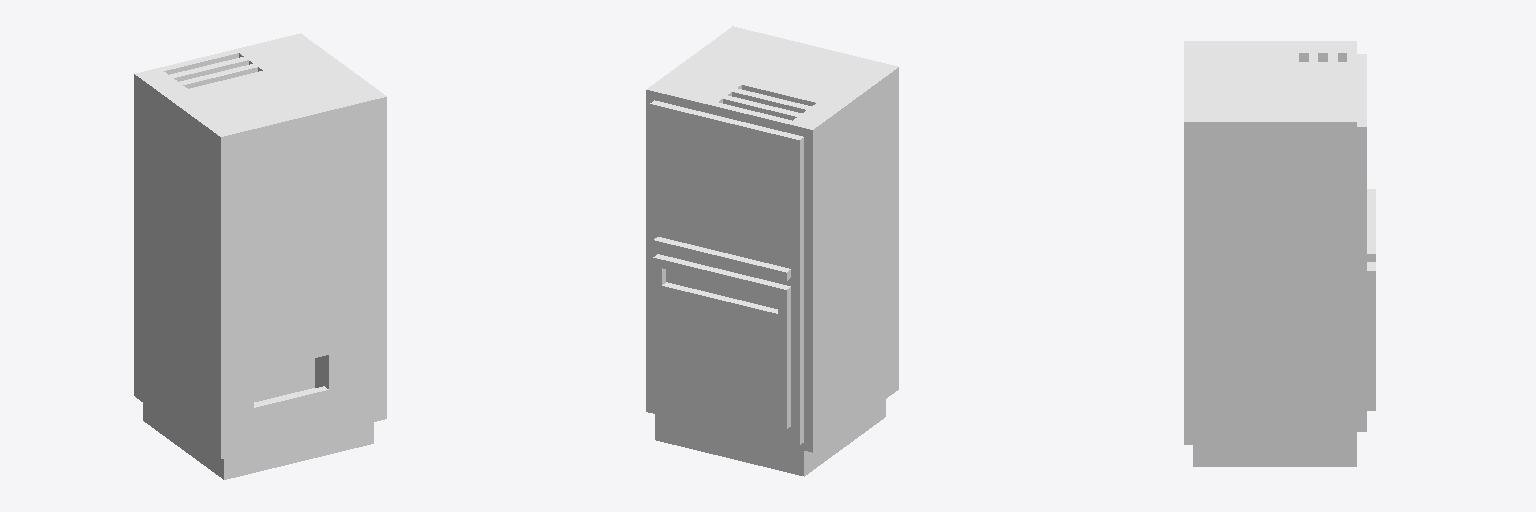
Rendered from cola.obj.
3 renders of one model, left to right at view 1: azimuth 30°, elevation 25°; view 2: azimuth 150°, elevation 25°; view 3: azimuth 270°, elevation 25°, orthographic.
Bounding box in the file's own units: 1 × 2 × 1.